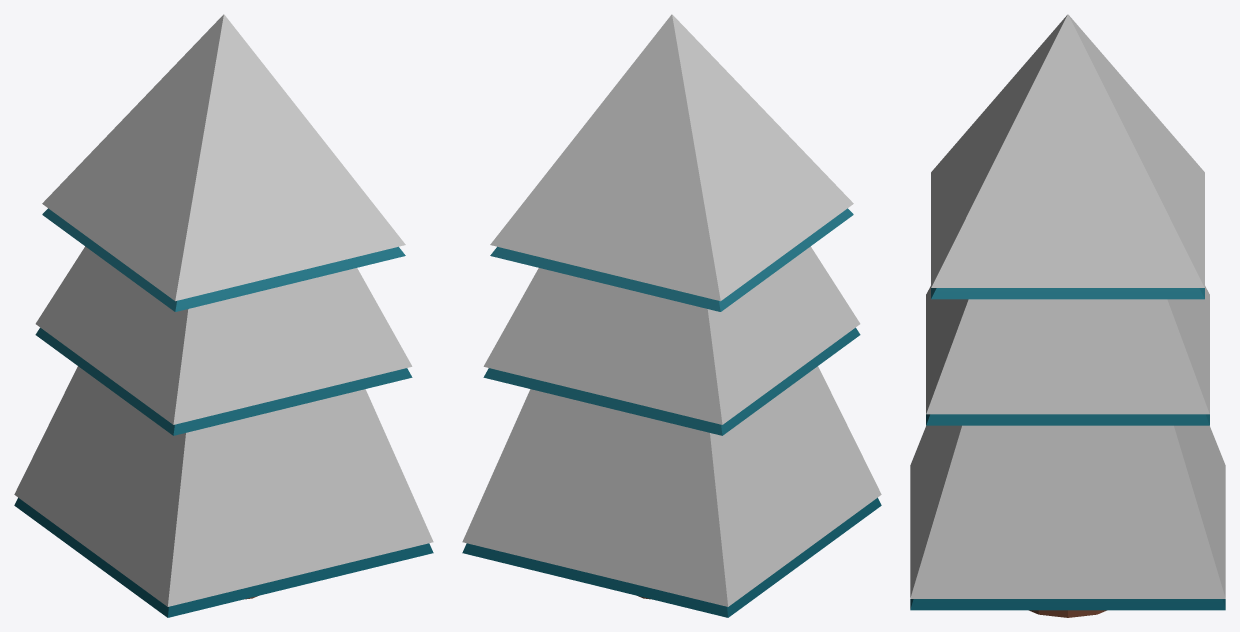
The model's file is Tree_18_winter_gradient_blue_vc.fbx.
The picture shows the model from 3 angles, left to right: view 1: azimuth 30°, elevation 25°; view 2: azimuth 150°, elevation 25°; view 3: azimuth 270°, elevation 25°; orthographic projection. The views are drawn at different scales.
Visible parts, largest first — view 1: Tree_18_winter_gradient_blue_vc; view 2: Tree_18_winter_gradient_blue_vc; view 3: Tree_18_winter_gradient_blue_vc.
Boxes of the visible parts, bbox=[...] form: Tree_18_winter_gradient_blue_vc: bbox=[14, 14, 433, 617]; Tree_18_winter_gradient_blue_vc: bbox=[462, 14, 881, 617]; Tree_18_winter_gradient_blue_vc: bbox=[910, 14, 1225, 617].
Bounding box in the file's own units: 95.96 × 194 × 95.96.
